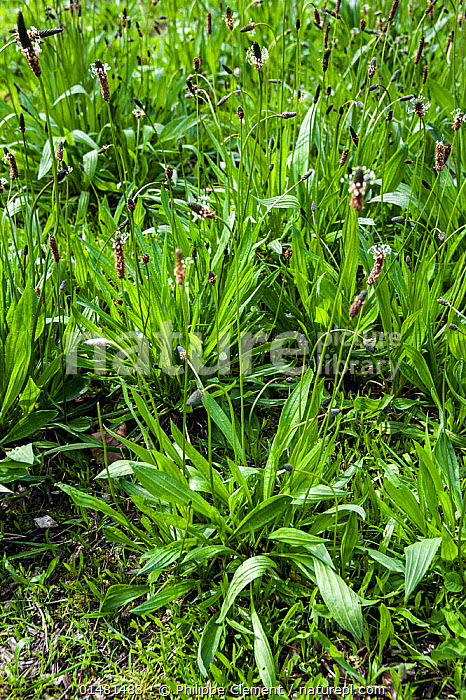buckhorn plantain: (76, 49, 415, 571)
